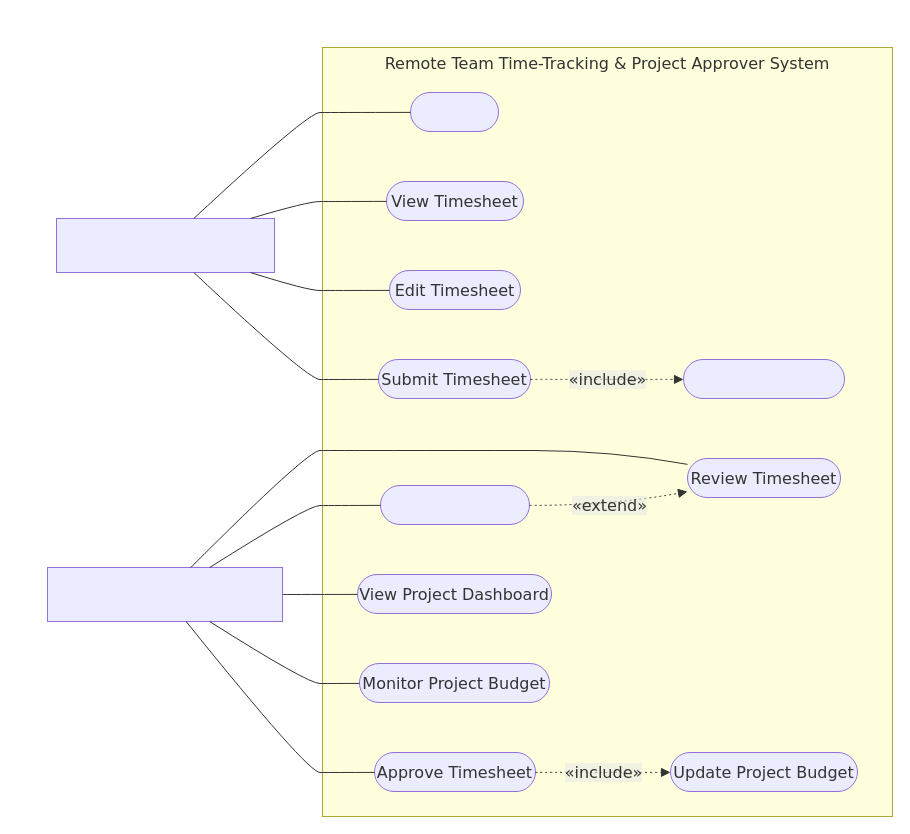
The diagram is 910 pixels wide and 834 high, and some of its shapes have lost their labels. The centre of each missing label's shape, as x and y in pixels:
Log Time: point 454,112
Reject Timesheet: point 455,504
Validate Timesheet: point 763,378
👤 Engineering Manager: point 164,594
👤 Remote Developer: point 165,245
